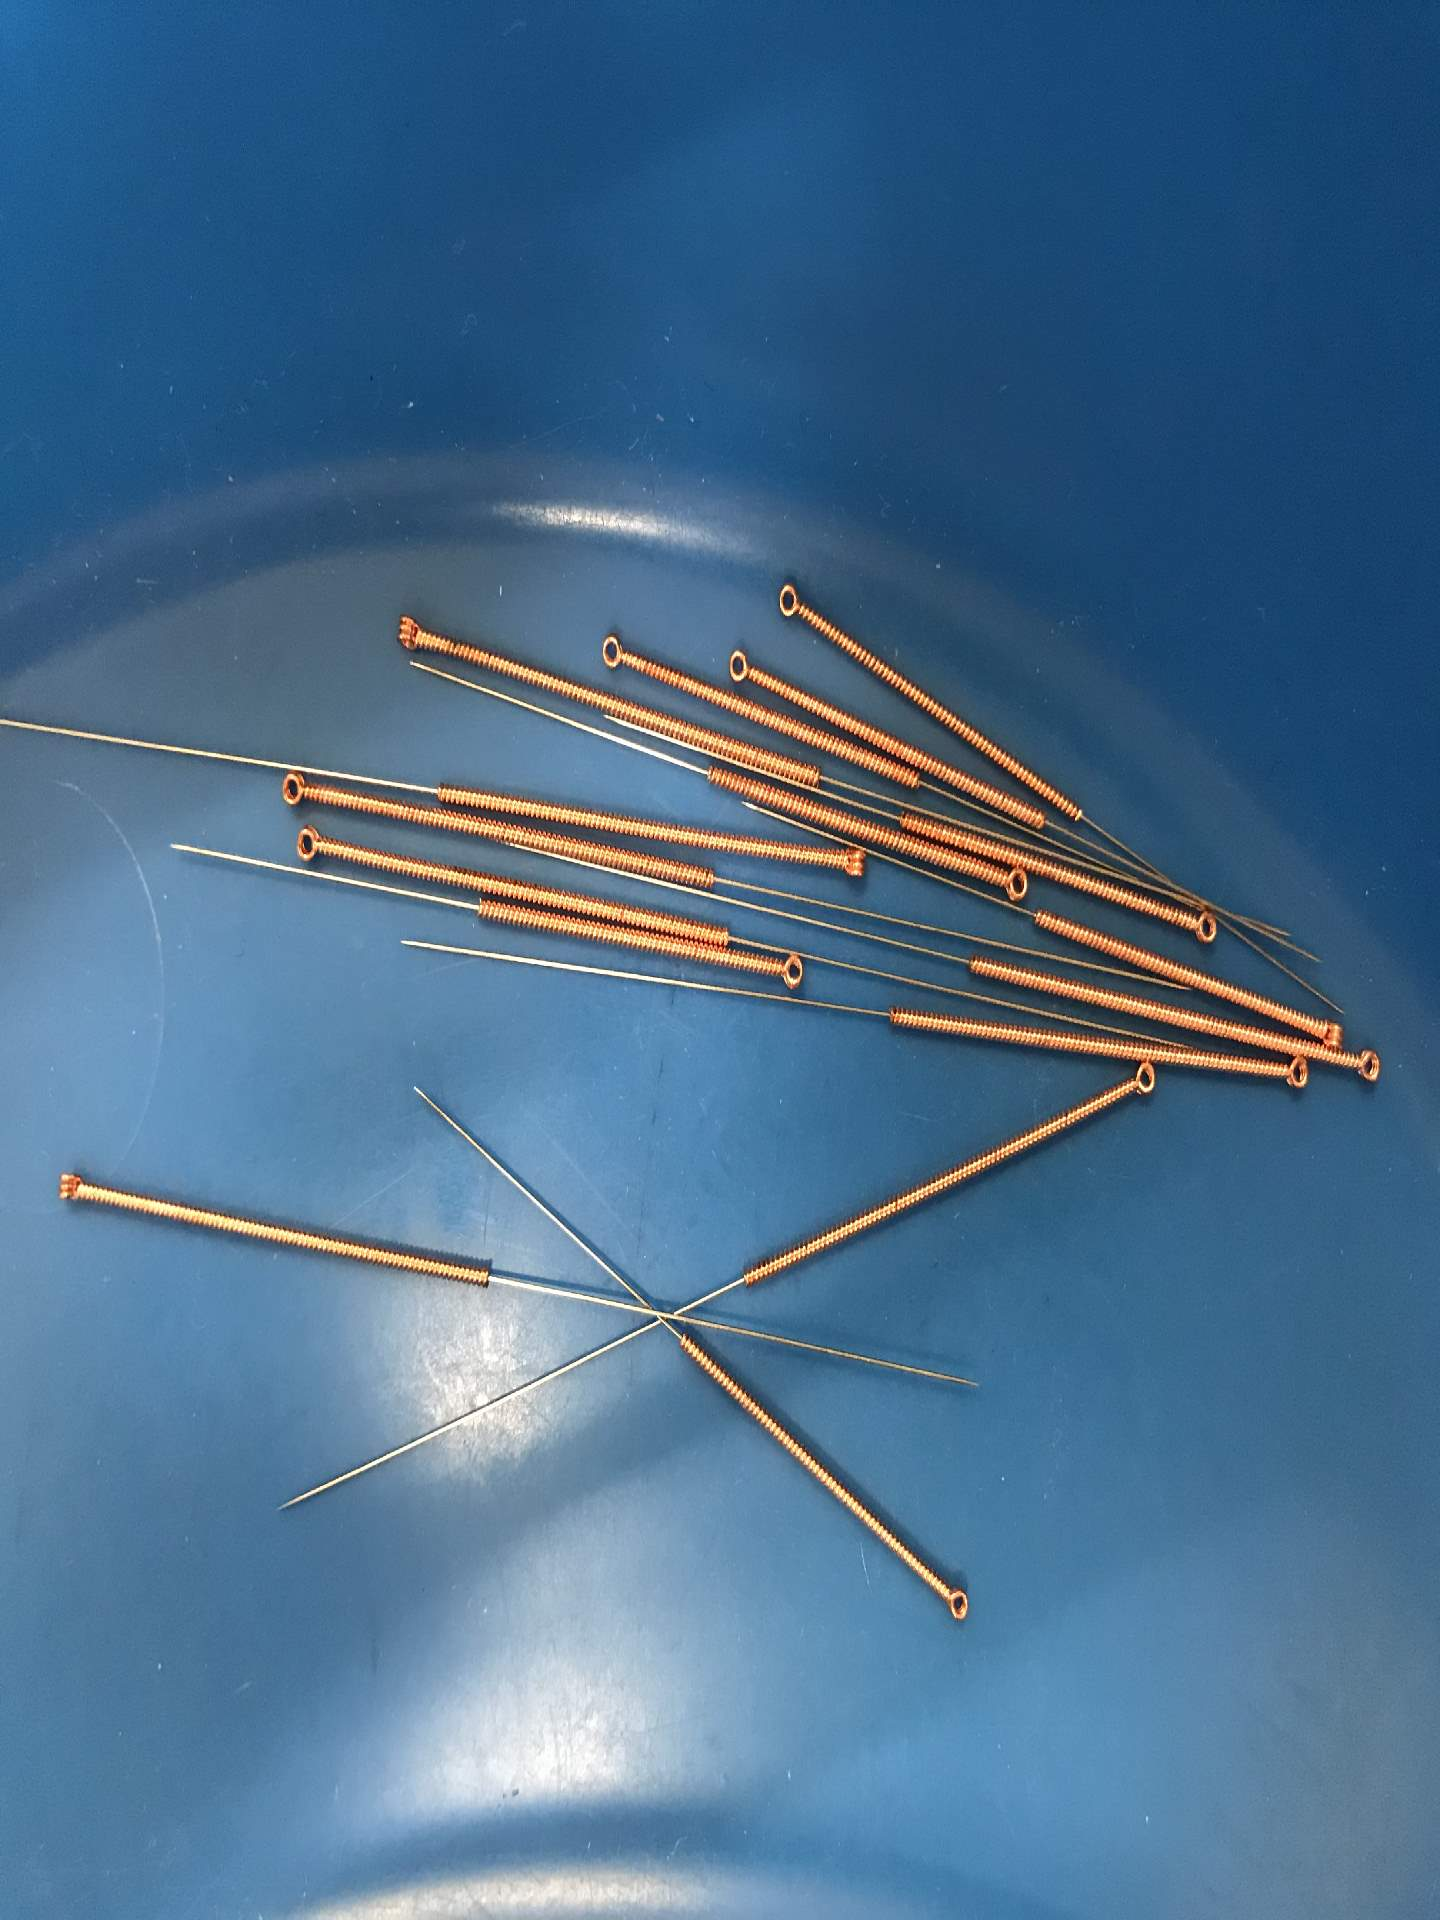needle: (41, 1158, 95, 1220), (930, 1572, 979, 1634), (280, 819, 336, 871), (821, 841, 877, 892), (269, 770, 324, 818), (588, 623, 634, 680), (381, 608, 433, 658), (1342, 1039, 1390, 1092), (765, 574, 812, 629), (982, 859, 1032, 909), (715, 644, 764, 691), (762, 951, 812, 996), (1180, 904, 1225, 951), (1118, 1060, 1160, 1107), (1277, 1051, 1317, 1098), (1313, 1008, 1349, 1054)
